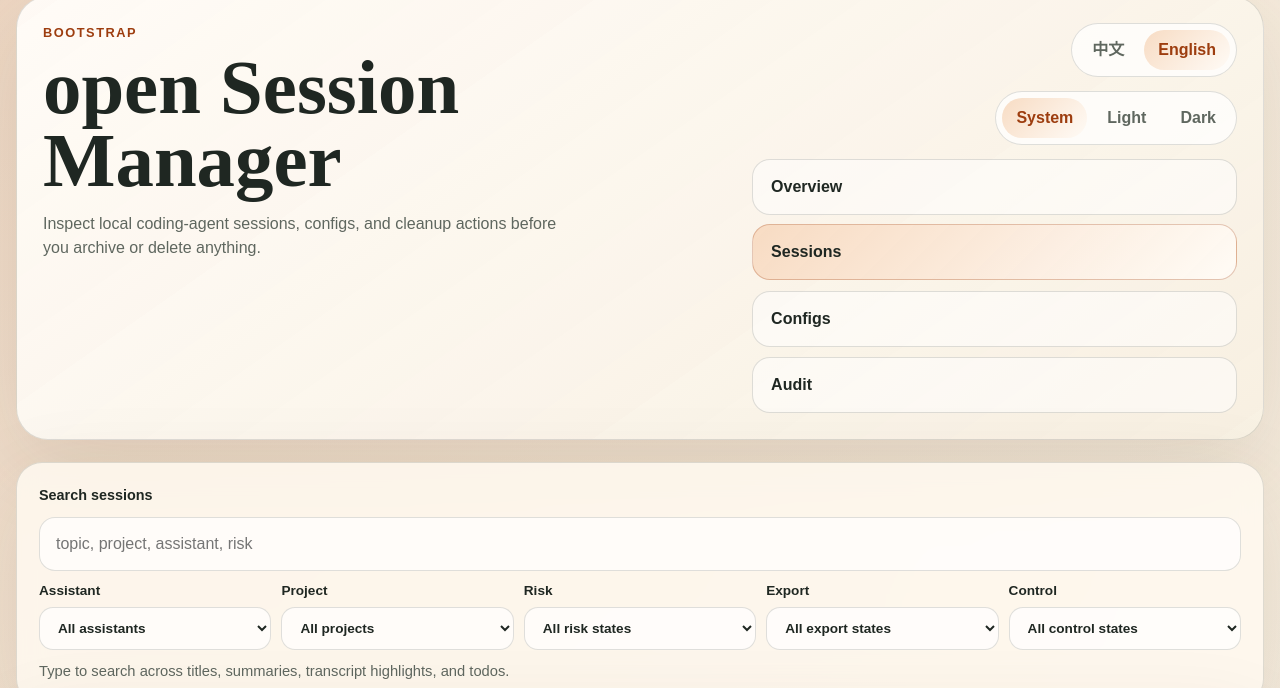
Test: App › 搜索结果在列表里显示命中片段和来源标签
The width and height of the screenshot is (1280, 688).
Type "manifest framing" into the search field labelled "Search sessions" at (640, 544), box [39,517,1241,571]
(page scrolled)
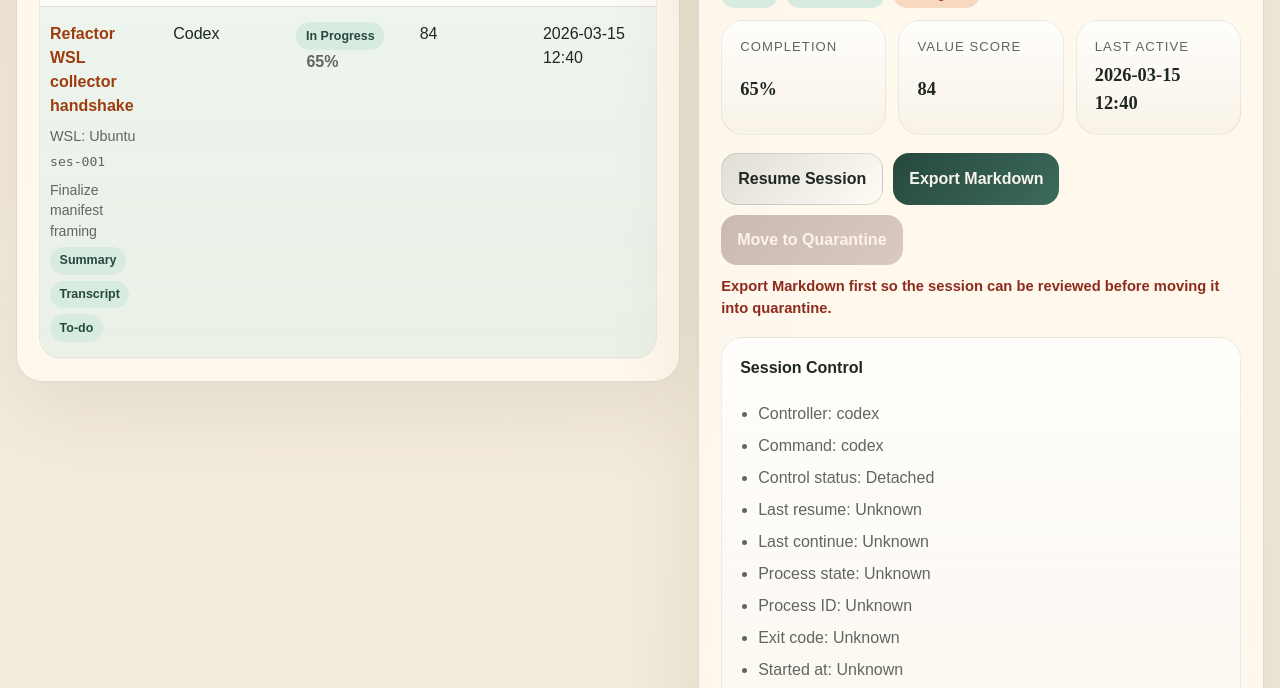
Check: the row "Refactor WSL collector handshake" is shown, box [40,7,656,357]
Check: the text "Finalize manifest framing" is shown, box [50,182,103,238]
Check: the text "To-do" is shown, box [50,314,103,342]
